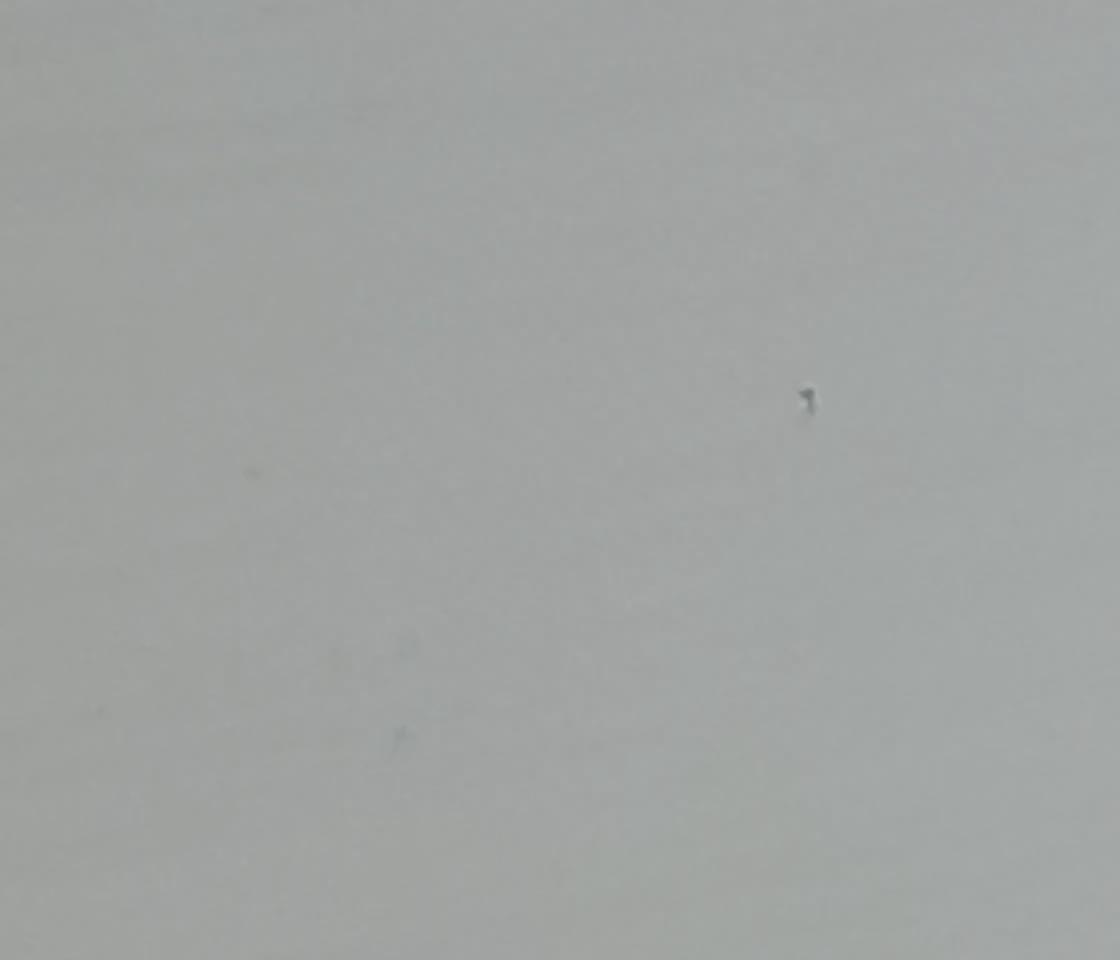scratch: (794, 378, 823, 423)
